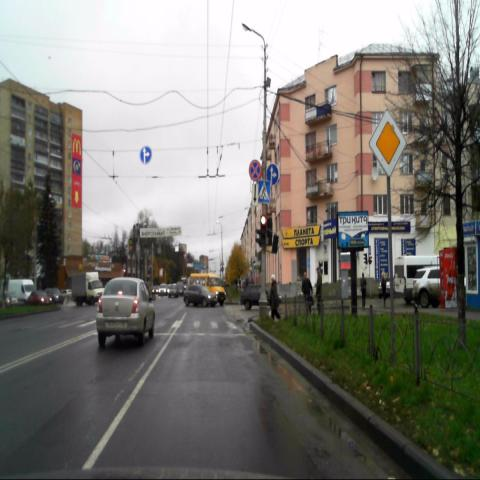4_1_4: (266, 164, 278, 185)
